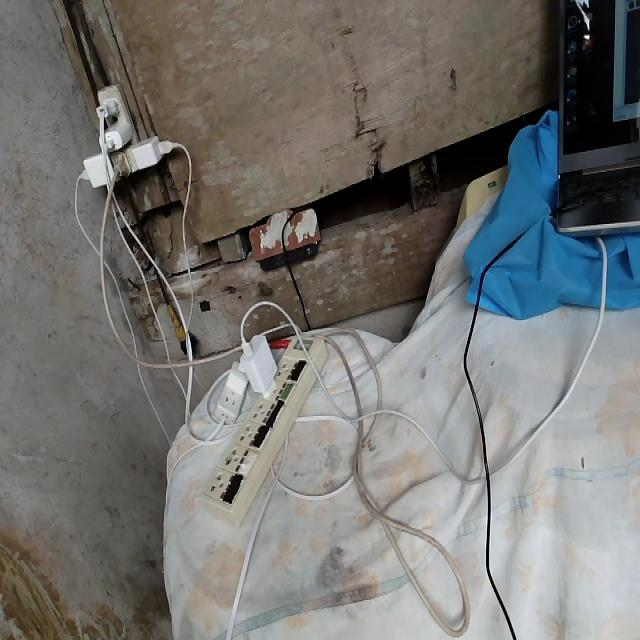-: (73, 80, 171, 187)
